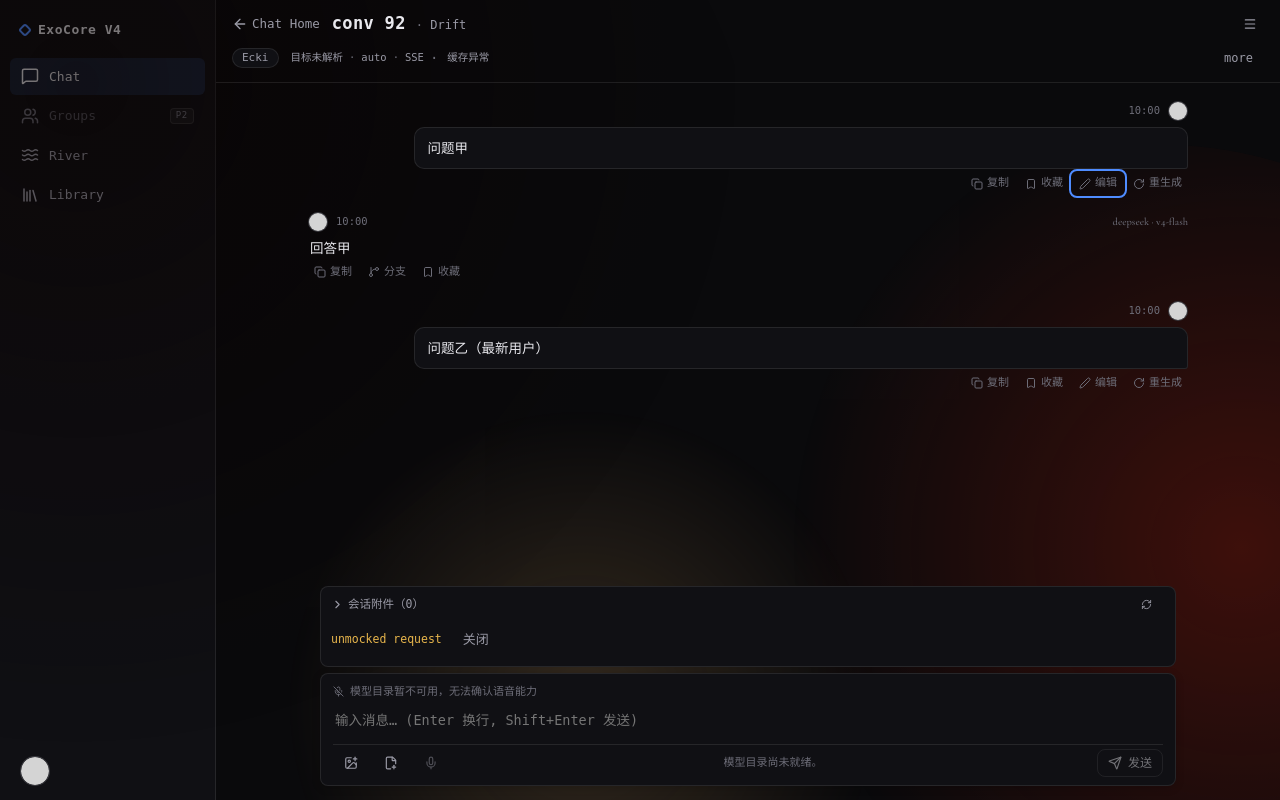
Scenario: C1B-R1-06 — real modal a11y (focus, Escape, containment) › truncation modal: Escape closes and returns focus
Click the button with aria-label "编辑此条消息".
click(1098, 184)  # box [1073,173,1123,194]
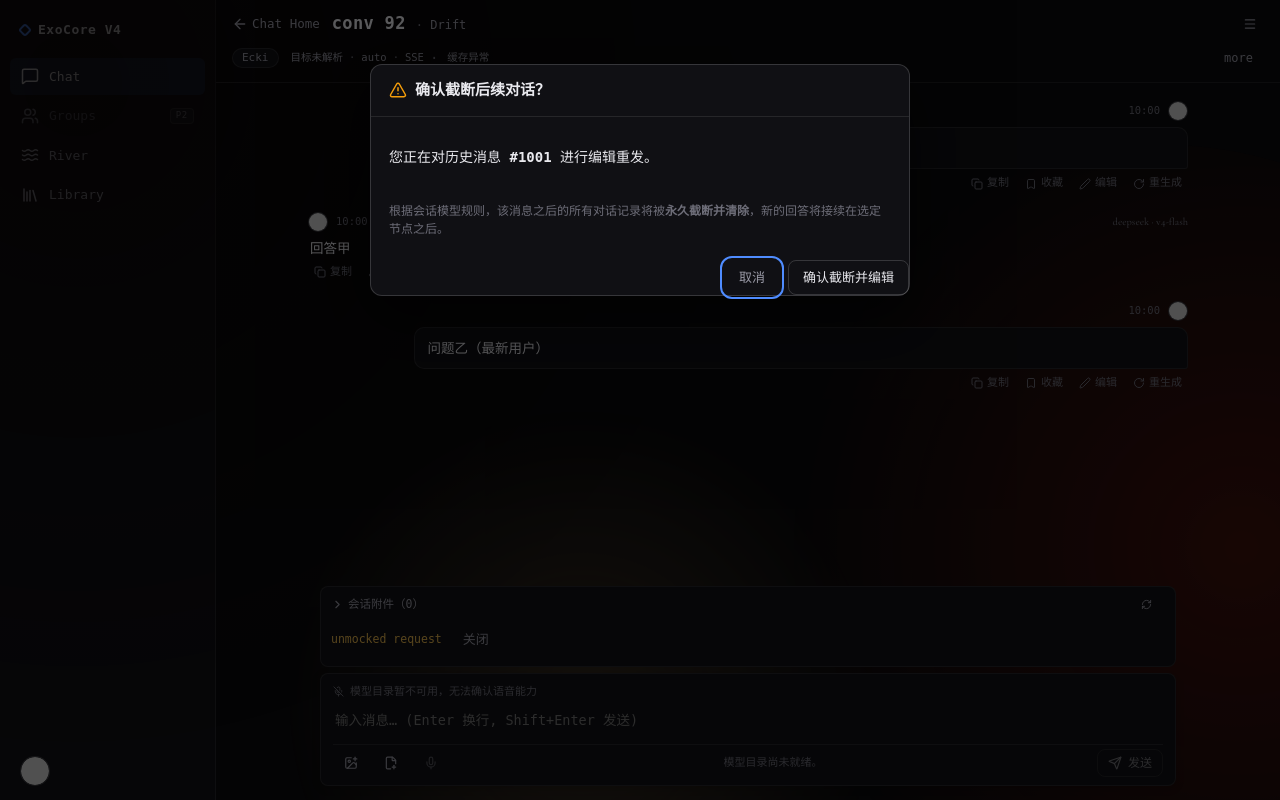
Press Escape in the button "取消", box [724,260,780,295]
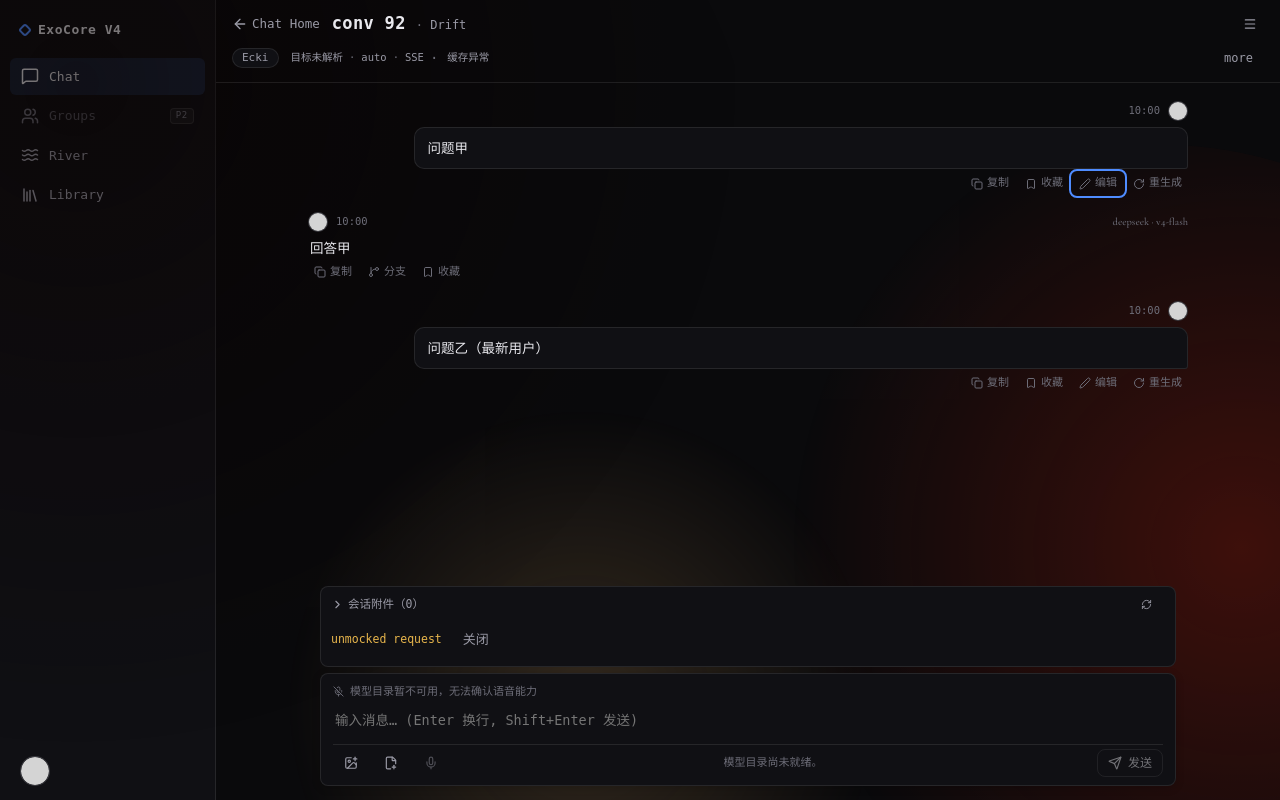
Now the heading "确认截断后续对话" is gone
